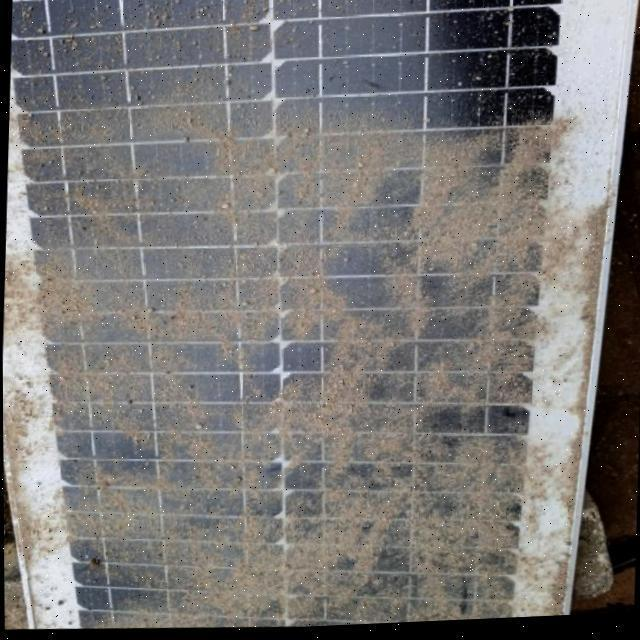Anomaly Solar Panel: (0, 0, 588, 640)
Surface Contaminant: (16, 0, 537, 453)
